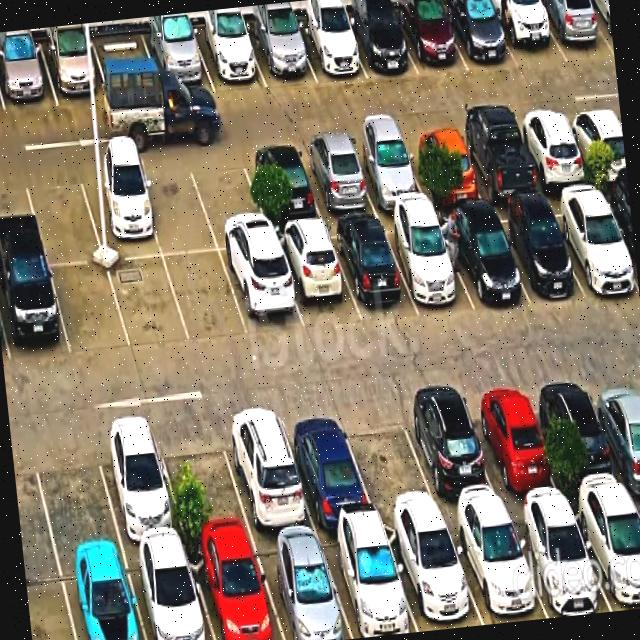empty: (338, 398, 441, 519), (154, 418, 252, 543), (28, 426, 121, 557), (187, 150, 272, 250), (136, 158, 217, 255), (163, 251, 248, 343), (22, 168, 103, 264), (107, 256, 190, 349), (50, 263, 130, 356), (91, 30, 164, 100)
occupied: (397, 389, 505, 517), (462, 381, 564, 509), (217, 405, 315, 535), (91, 421, 186, 548), (278, 405, 376, 528), (534, 375, 629, 501), (507, 504, 611, 618), (445, 511, 548, 624), (317, 524, 418, 638), (383, 520, 483, 631), (251, 533, 352, 640), (186, 538, 283, 640), (545, 191, 639, 295), (488, 203, 583, 303), (435, 210, 530, 310), (272, 225, 361, 331), (327, 219, 418, 321), (381, 215, 474, 312), (124, 544, 214, 640), (569, 494, 640, 611), (77, 163, 162, 260), (58, 551, 145, 640), (220, 247, 304, 335), (0, 262, 70, 363), (455, 121, 541, 202), (240, 145, 323, 228), (586, 370, 640, 493), (296, 139, 378, 219), (347, 134, 428, 212), (402, 127, 485, 203), (513, 113, 593, 191), (392, 0, 468, 76), (486, 0, 567, 69), (440, 0, 518, 71), (341, 8, 418, 78), (142, 27, 215, 97), (191, 25, 267, 92), (39, 35, 110, 106), (534, 0, 614, 62), (292, 16, 367, 82), (564, 107, 627, 183), (245, 21, 316, 87), (0, 41, 57, 111), (599, 188, 637, 276), (586, 0, 614, 52)
